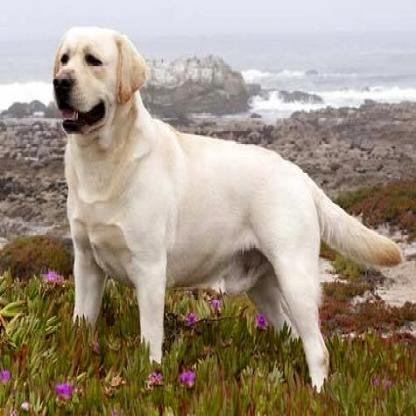Labarador Retriever: (50, 24, 399, 392)
